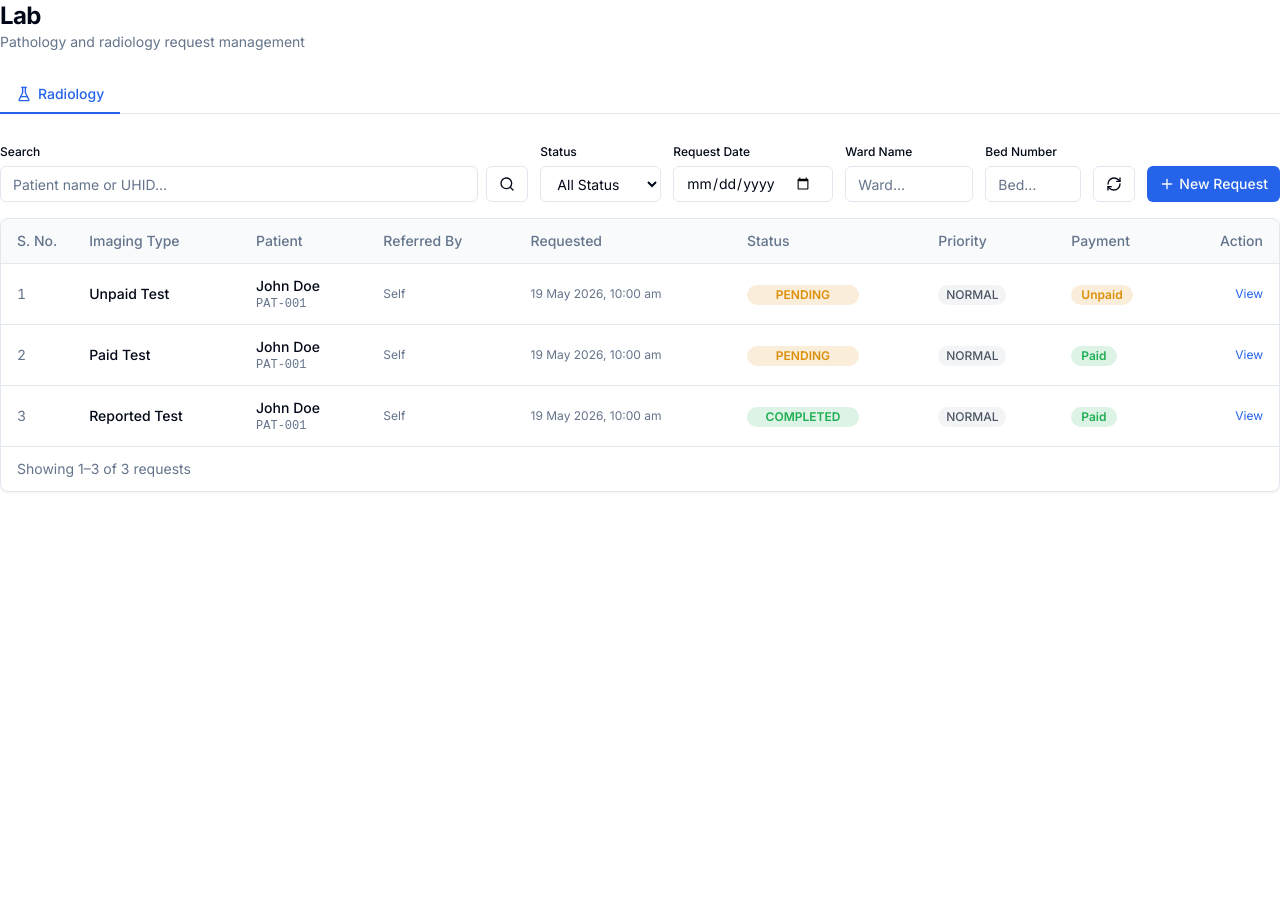
Test: Lab radiology — report upload & display › paid request without a report: "No report uploaded" (Radiology only) and allows upload
Click the button "Radiology": (60,95) top-left (0, 76), bottom-right (120, 114)
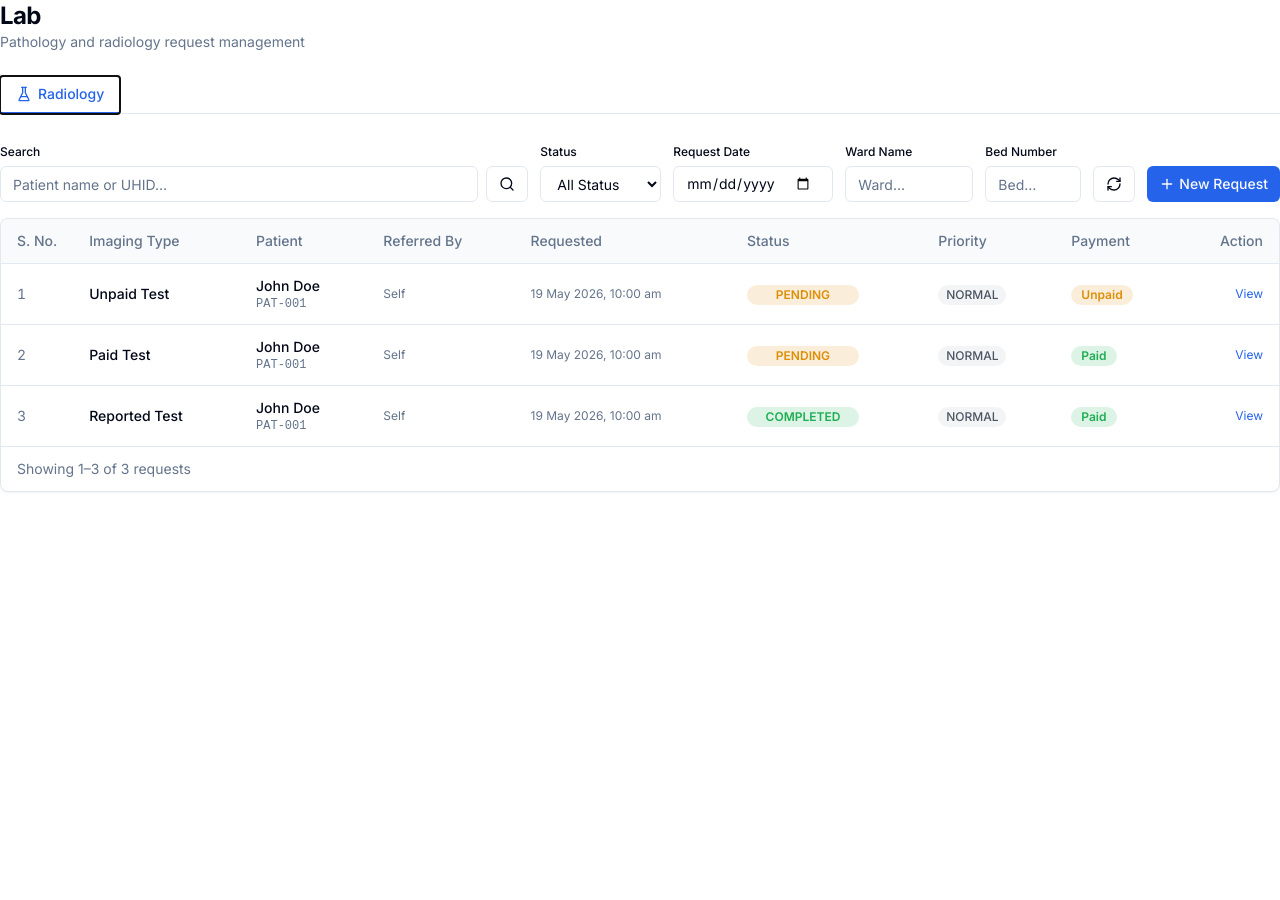
Click the 2nd button "View": (1249,355) top-left (1235, 347), bottom-right (1263, 363)
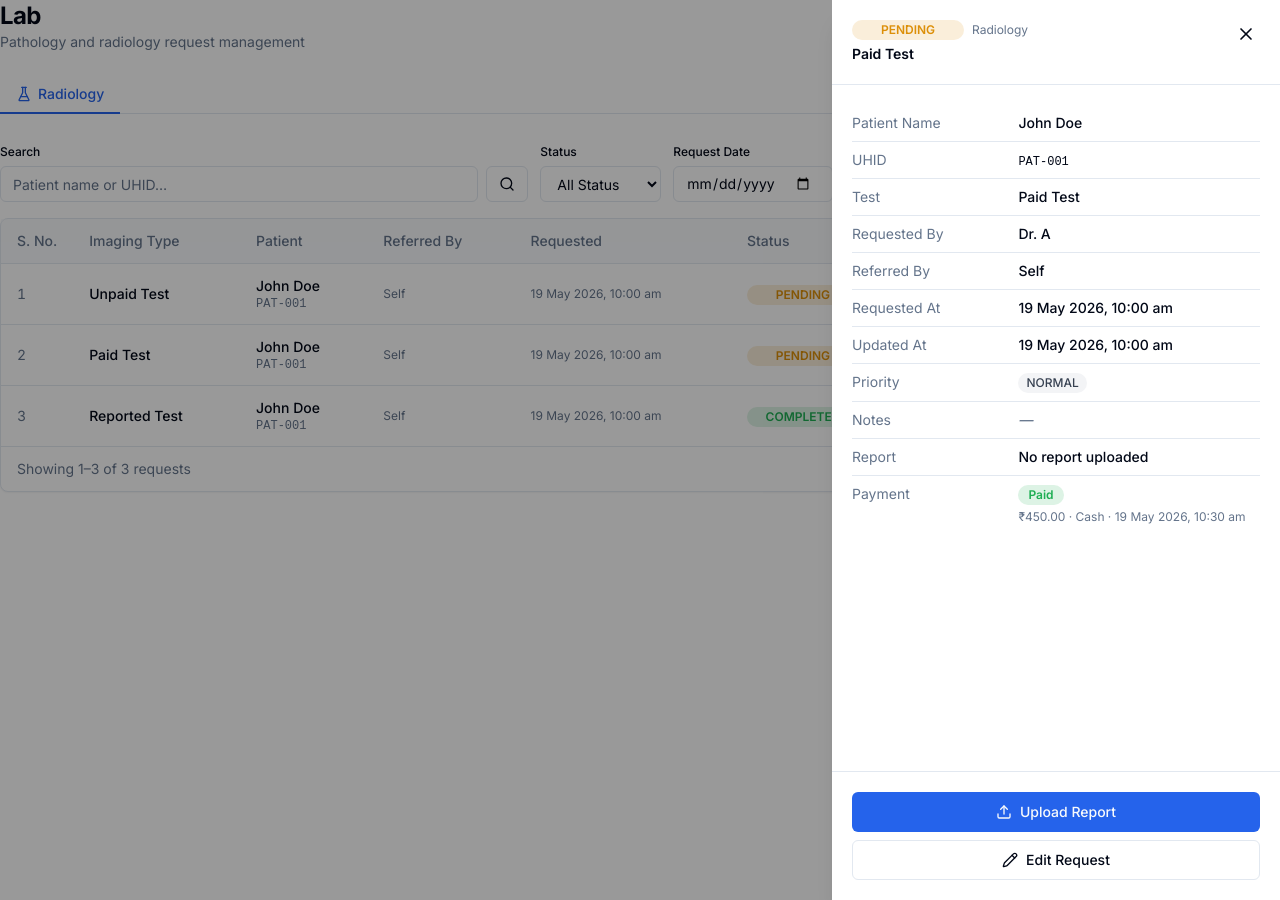
Expected: the button "Upload Report" is shown, top-left (852, 792), bottom-right (1260, 832)
